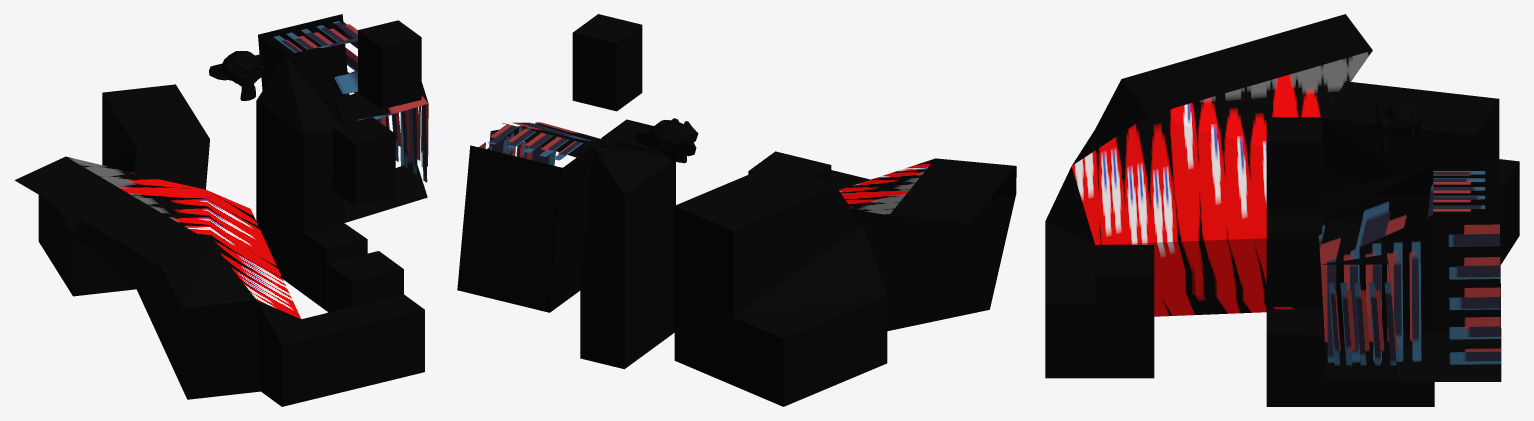
The model's file is level1.dae.
3 views of the same model, side by side, from view 1: azimuth 30°, elevation 25°; view 2: azimuth 150°, elevation 25°; view 3: azimuth 270°, elevation 25° (orthographic). The views are drawn at different scales.
Visible parts, largest first — view 1: Cube; view 2: Cube; view 3: Cube.
Part boxes in pixels (x1=…): Cube: x1=14, y1=14, x2=428, y2=406; Cube: x1=457, y1=14, x2=1016, y2=406; Cube: x1=1045, y1=14, x2=1519, y2=406.
Bounding box in the file's own units: 21 × 17.11 × 11.85.
